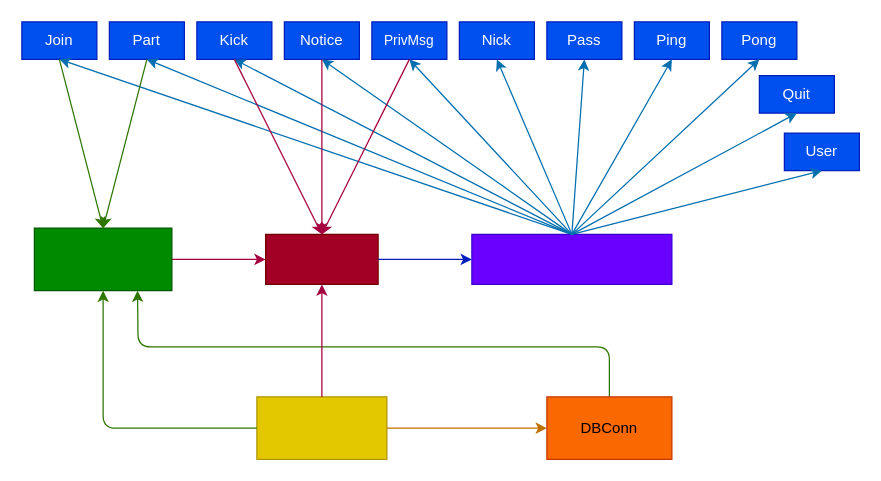
This 881x481 diagram has some shape labels left out. The shapes that lost their labels are listed below. From the top down, each one's centre as x and y in pixels, then its label:
At (x=102, y=259): "Channel".
At (x=321, y=258): "Client".
At (x=571, y=258): "CommandHandler".
At (x=321, y=427): "Server".
